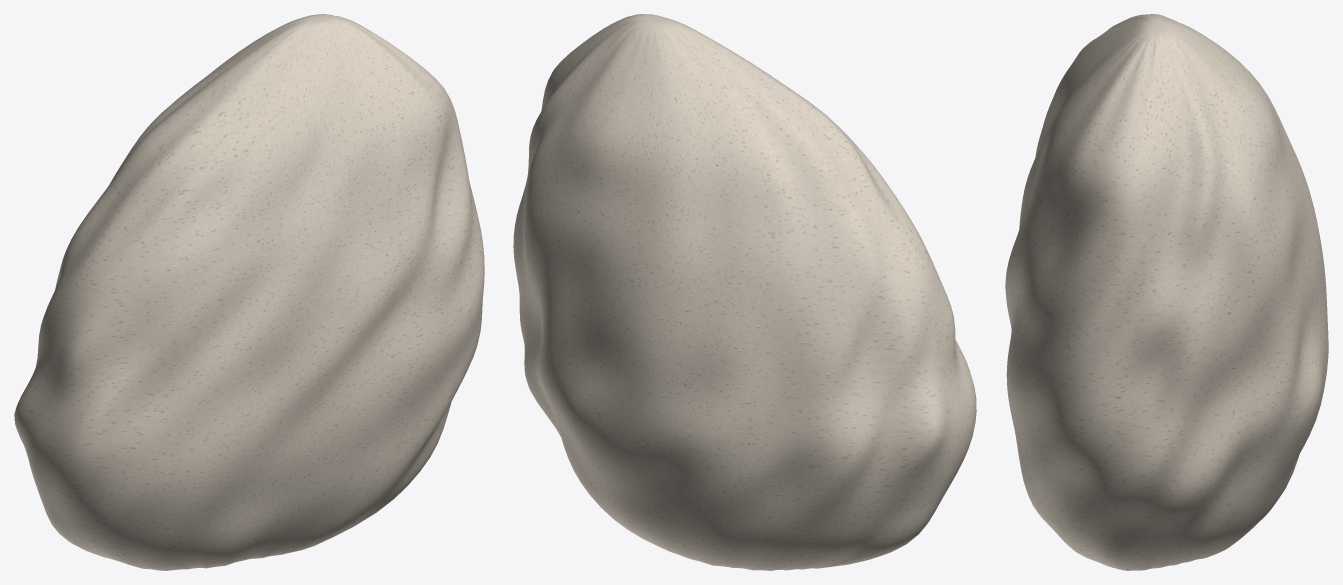
The model's file is G24_striped_peak_rock.glb.
3 renders of one model, left to right at view 1: azimuth 30°, elevation 25°; view 2: azimuth 150°, elevation 25°; view 3: azimuth 270°, elevation 25°, orthographic. The views are drawn at different scales.
Visible parts, largest first — view 1: item / Shared warm ivory fine granular stone; view 2: item / Shared warm ivory fine granular stone; view 3: item / Shared warm ivory fine granular stone.
Part boxes in pixels (x1,y1,x2,y2): item / Shared warm ivory fine granular stone: (14, 14, 484, 570); item / Shared warm ivory fine granular stone: (513, 14, 976, 570); item / Shared warm ivory fine granular stone: (1005, 14, 1328, 570).
Bounding box in the file's own units: 0.7282 × 0.82 × 0.4384.
Materials: 1 (1 with a texture image).
